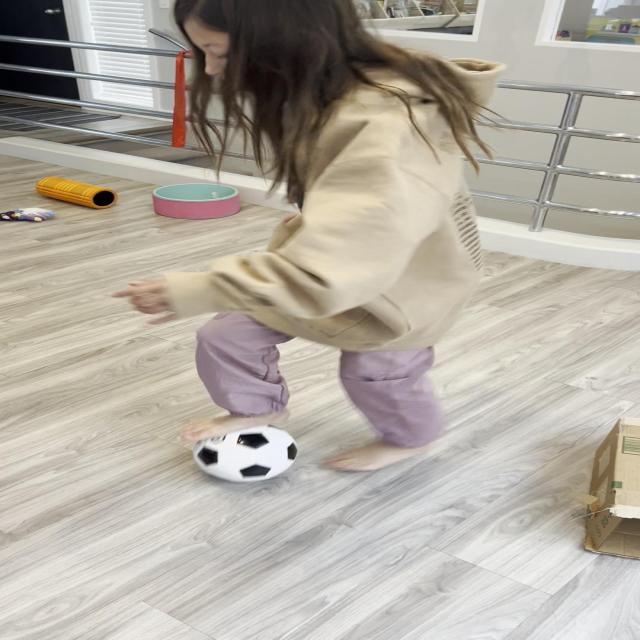Soccer Ball: (194, 424, 299, 481)
